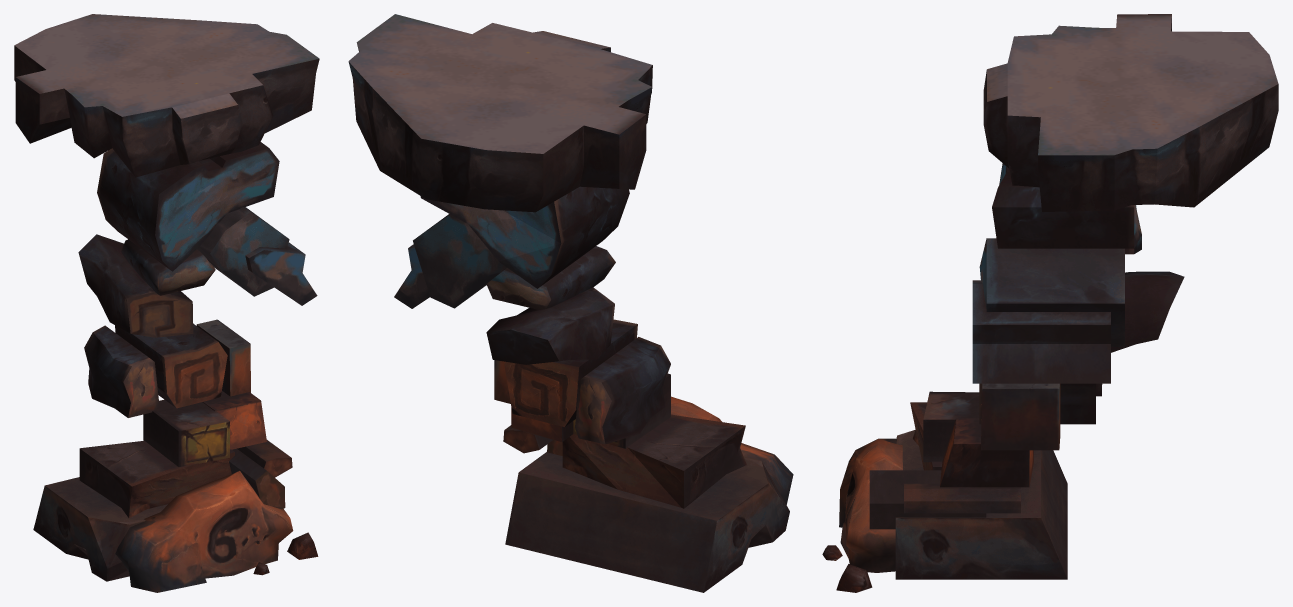
Rendered from huoguanshizhu01.FBX.
The picture shows the model from 3 angles, left to right: view 1: azimuth 30°, elevation 25°; view 2: azimuth 150°, elevation 25°; view 3: azimuth 270°, elevation 25°; orthographic projection. The views are drawn at different scales.
Parts seen in each view (by area): view 1: huoguanshizhu1; view 2: huoguanshizhu1; view 3: huoguanshizhu1.
Part boxes in pixels (x1,y1,x2,y2): huoguanshizhu1: (14,14,319,592); huoguanshizhu1: (348,14,793,592); huoguanshizhu1: (822,14,1278,592).
Size of the model in its own units: 997 by 1227 by 1440.
